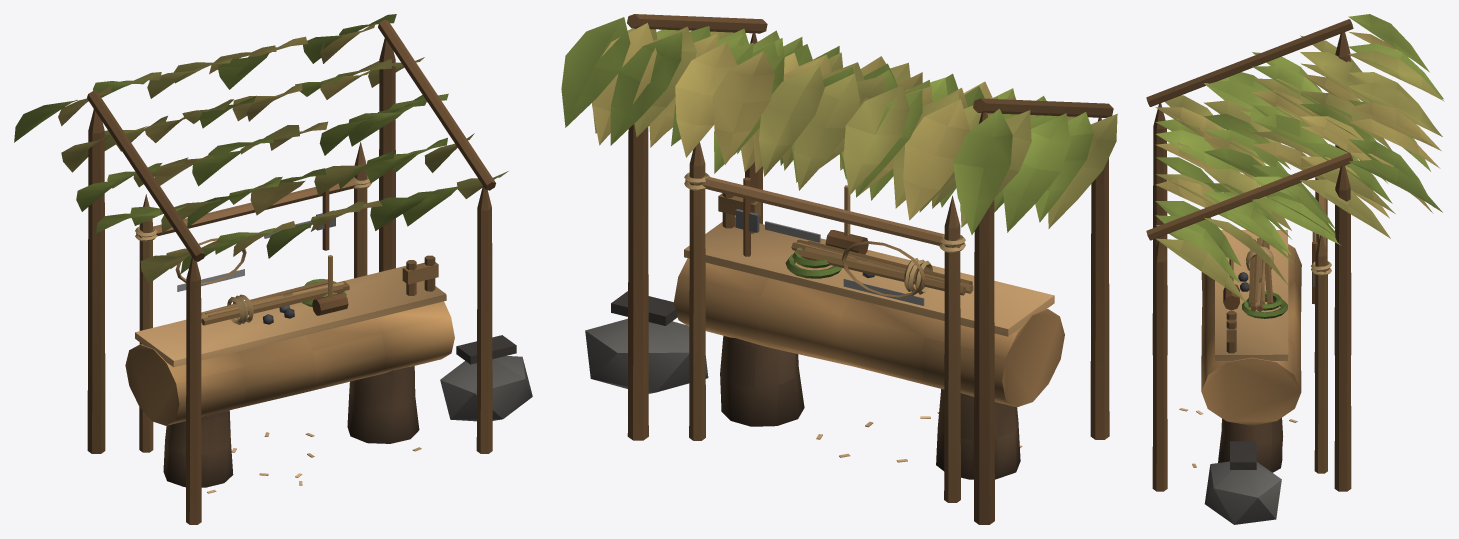
Rendered from workbench.glb.
3 renders of one model, left to right at view 1: azimuth 30°, elevation 25°; view 2: azimuth 150°, elevation 25°; view 3: azimuth 270°, elevation 25°, orthographic. The views are drawn at different scales.
Visible parts, largest first — view 1: L3, Body, L2; view 2: L3, Body, L2; view 3: L3, Body, L2.
Boxes of the visible parts, box(x1,y1,x2,y2) form: L3: box(14, 14, 532, 524); Body: box(125, 255, 454, 493); L2: box(135, 142, 371, 452); L3: box(561, 14, 1117, 524); Body: box(674, 185, 1064, 479); L2: box(684, 142, 965, 502); L3: box(1146, 14, 1444, 524); Body: box(1179, 230, 1301, 472); L2: box(1311, 178, 1331, 473).
Bounding box in the file's own units: 2.8 × 2.32 × 1.8.
